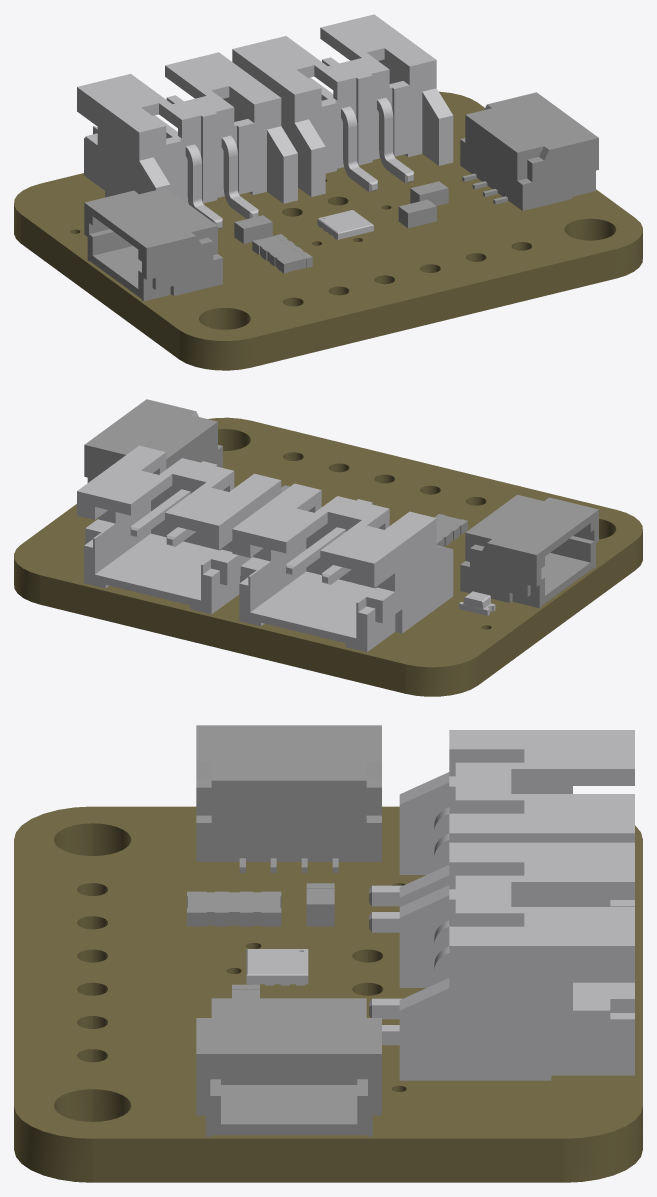
Rendered from ada-5580.glb.
3 renders of one model, top to bottom at view 1: azimuth 30°, elevation 25°; view 2: azimuth 150°, elevation 25°; view 3: azimuth 270°, elevation 25°, orthographic. The views are drawn at different scales.
Parts seen in each view (by area): view 1: 0.16666666666666666_0.16666666666666666_0.08333333333333333_, 0.5833333333333334_0.5833333333333334_0.5833333333333334_0.8, 0.3333333333333333_0.3333333333333333_0.3333333333333333_0; view 2: 0.5833333333333334_0.5833333333333334_0.5833333333333334_0.8, 0.16666666666666666_0.16666666666666666_0.08333333333333333_, 0.3333333333333333_0.3333333333333333_0.3333333333333333_0; view 3: 0.16666666666666666_0.16666666666666666_0.08333333333333333_, 0.5833333333333334_0.5833333333333334_0.5833333333333334_0.8, 0.3333333333333333_0.3333333333333333_0.3333333333333333_0.
Boxes of the visible parts, x1=… form: 0.16666666666666666_0.16666666666666666_0.08333333333333333_: x1=14, y1=91, x2=642, y2=370; 0.5833333333333334_0.5833333333333334_0.5833333333333334_0.8: x1=77, y1=14, x2=453, y2=239; 0.3333333333333333_0.3333333333333333_0.3333333333333333_0: x1=84, y1=92, x2=598, y2=301; 0.5833333333333334_0.5833333333333334_0.5833333333333334_0.8: x1=77, y1=445, x2=495, y2=652; 0.16666666666666666_0.16666666666666666_0.08333333333333333_: x1=14, y1=417, x2=642, y2=696; 0.3333333333333333_0.3333333333333333_0.3333333333333333_0: x1=84, y1=399, x2=598, y2=608; 0.16666666666666666_0.16666666666666666_0.08333333333333333_: x1=14, y1=806, x2=642, y2=1182; 0.5833333333333334_0.5833333333333334_0.5833333333333334_0.8: x1=246, y1=730, x2=634, y2=1080; 0.3333333333333333_0.3333333333333333_0.3333333333333333_0: x1=187, y1=725, x2=381, y2=1136.
Bounding box in the file's own units: 2.54 × 0.6369 × 2.03.
